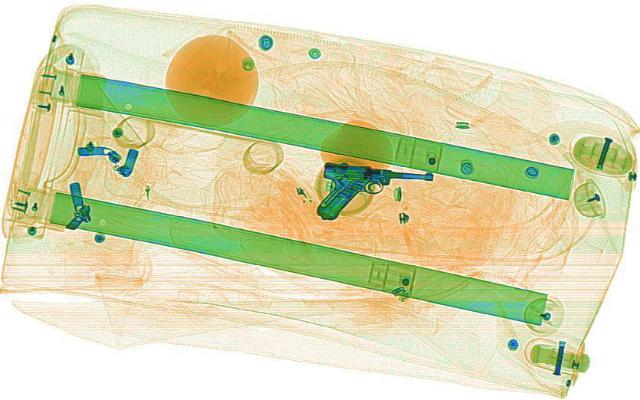Gun: (310, 162, 432, 220)
